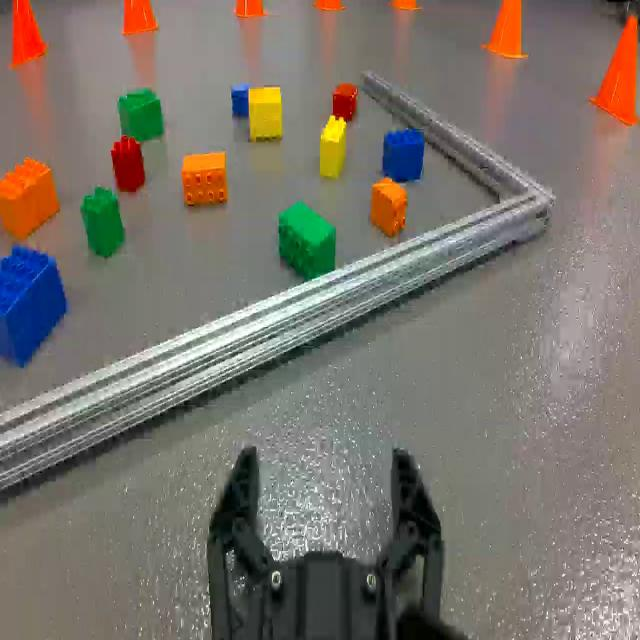block: (245, 86, 286, 145), (320, 116, 351, 182)
blue: (0, 247, 68, 369), (381, 131, 426, 188), (232, 79, 248, 125)
cone: (592, 14, 640, 113), (487, 1, 529, 59), (13, 2, 46, 71), (120, 0, 161, 36), (235, 0, 267, 27), (390, 0, 420, 15), (312, 0, 344, 14)
green: (278, 208, 338, 275), (80, 187, 127, 262), (117, 91, 166, 145)
metal barrier: (0, 68, 556, 501)
orange: (0, 159, 63, 243), (181, 153, 230, 212), (369, 178, 410, 240)
red goal: (111, 134, 148, 196), (333, 82, 360, 121)
